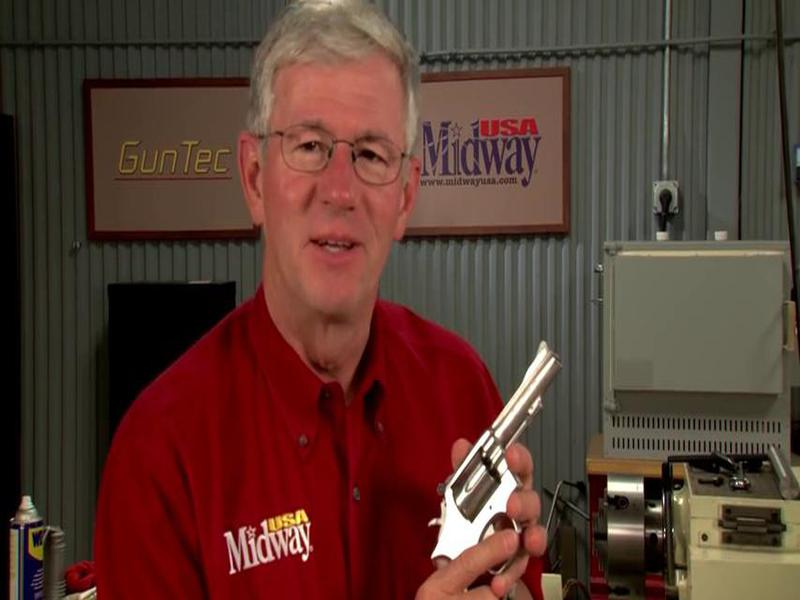Revolver: (408, 329, 584, 600)
